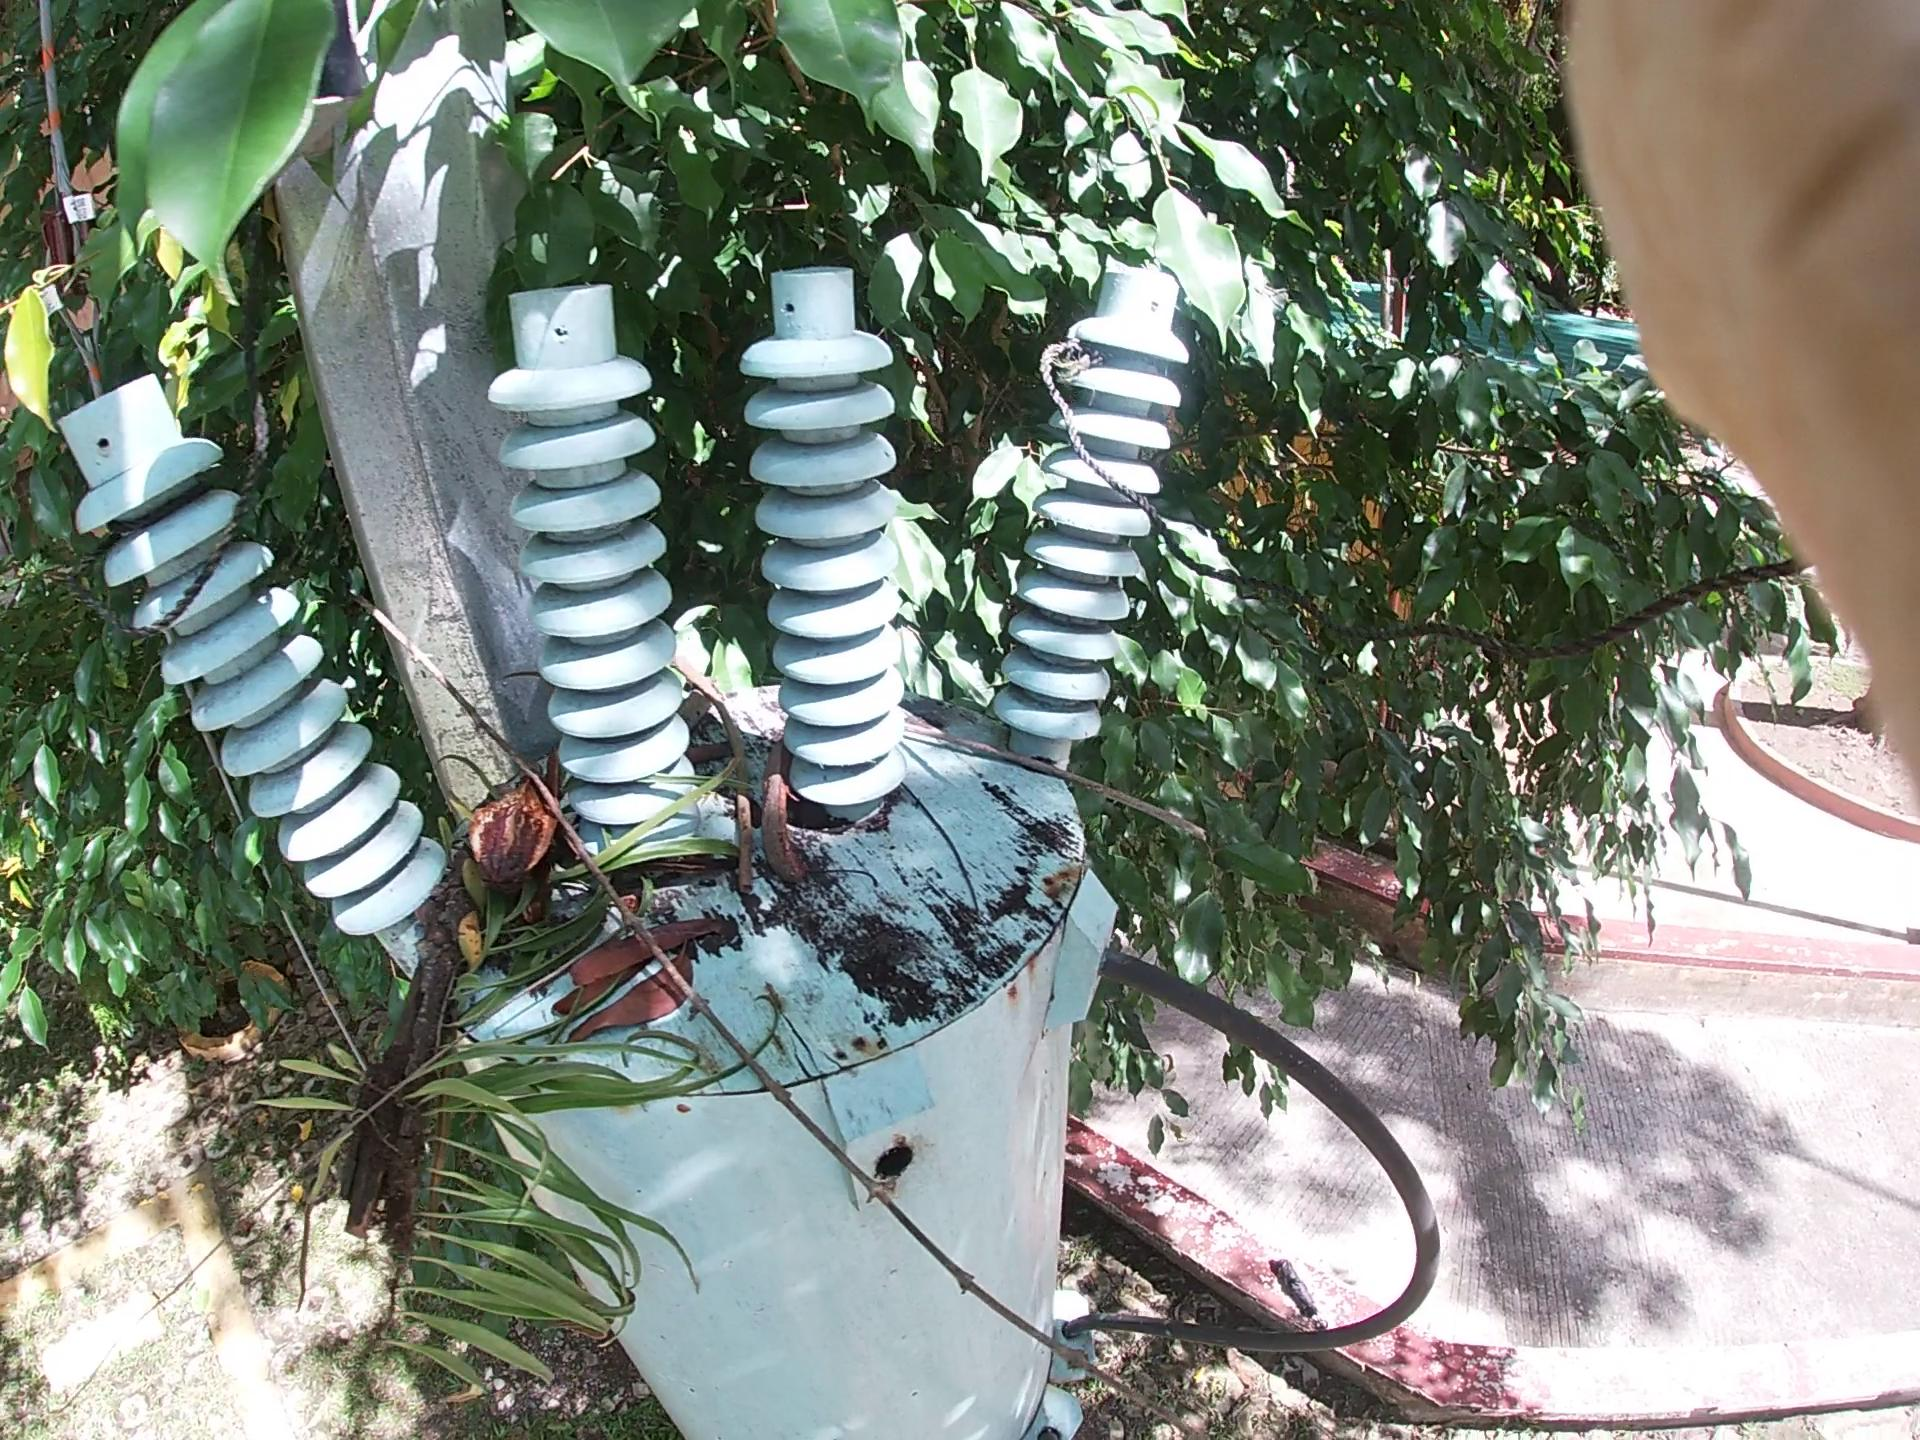branch with leaves: (367, 611, 579, 1331)
leaf: (883, 743, 1223, 883)
mahogany fruit: (398, 703, 658, 929), (729, 682, 835, 926)
tree branch: (408, 655, 952, 1327), (543, 909, 760, 1066), (674, 616, 794, 871)
